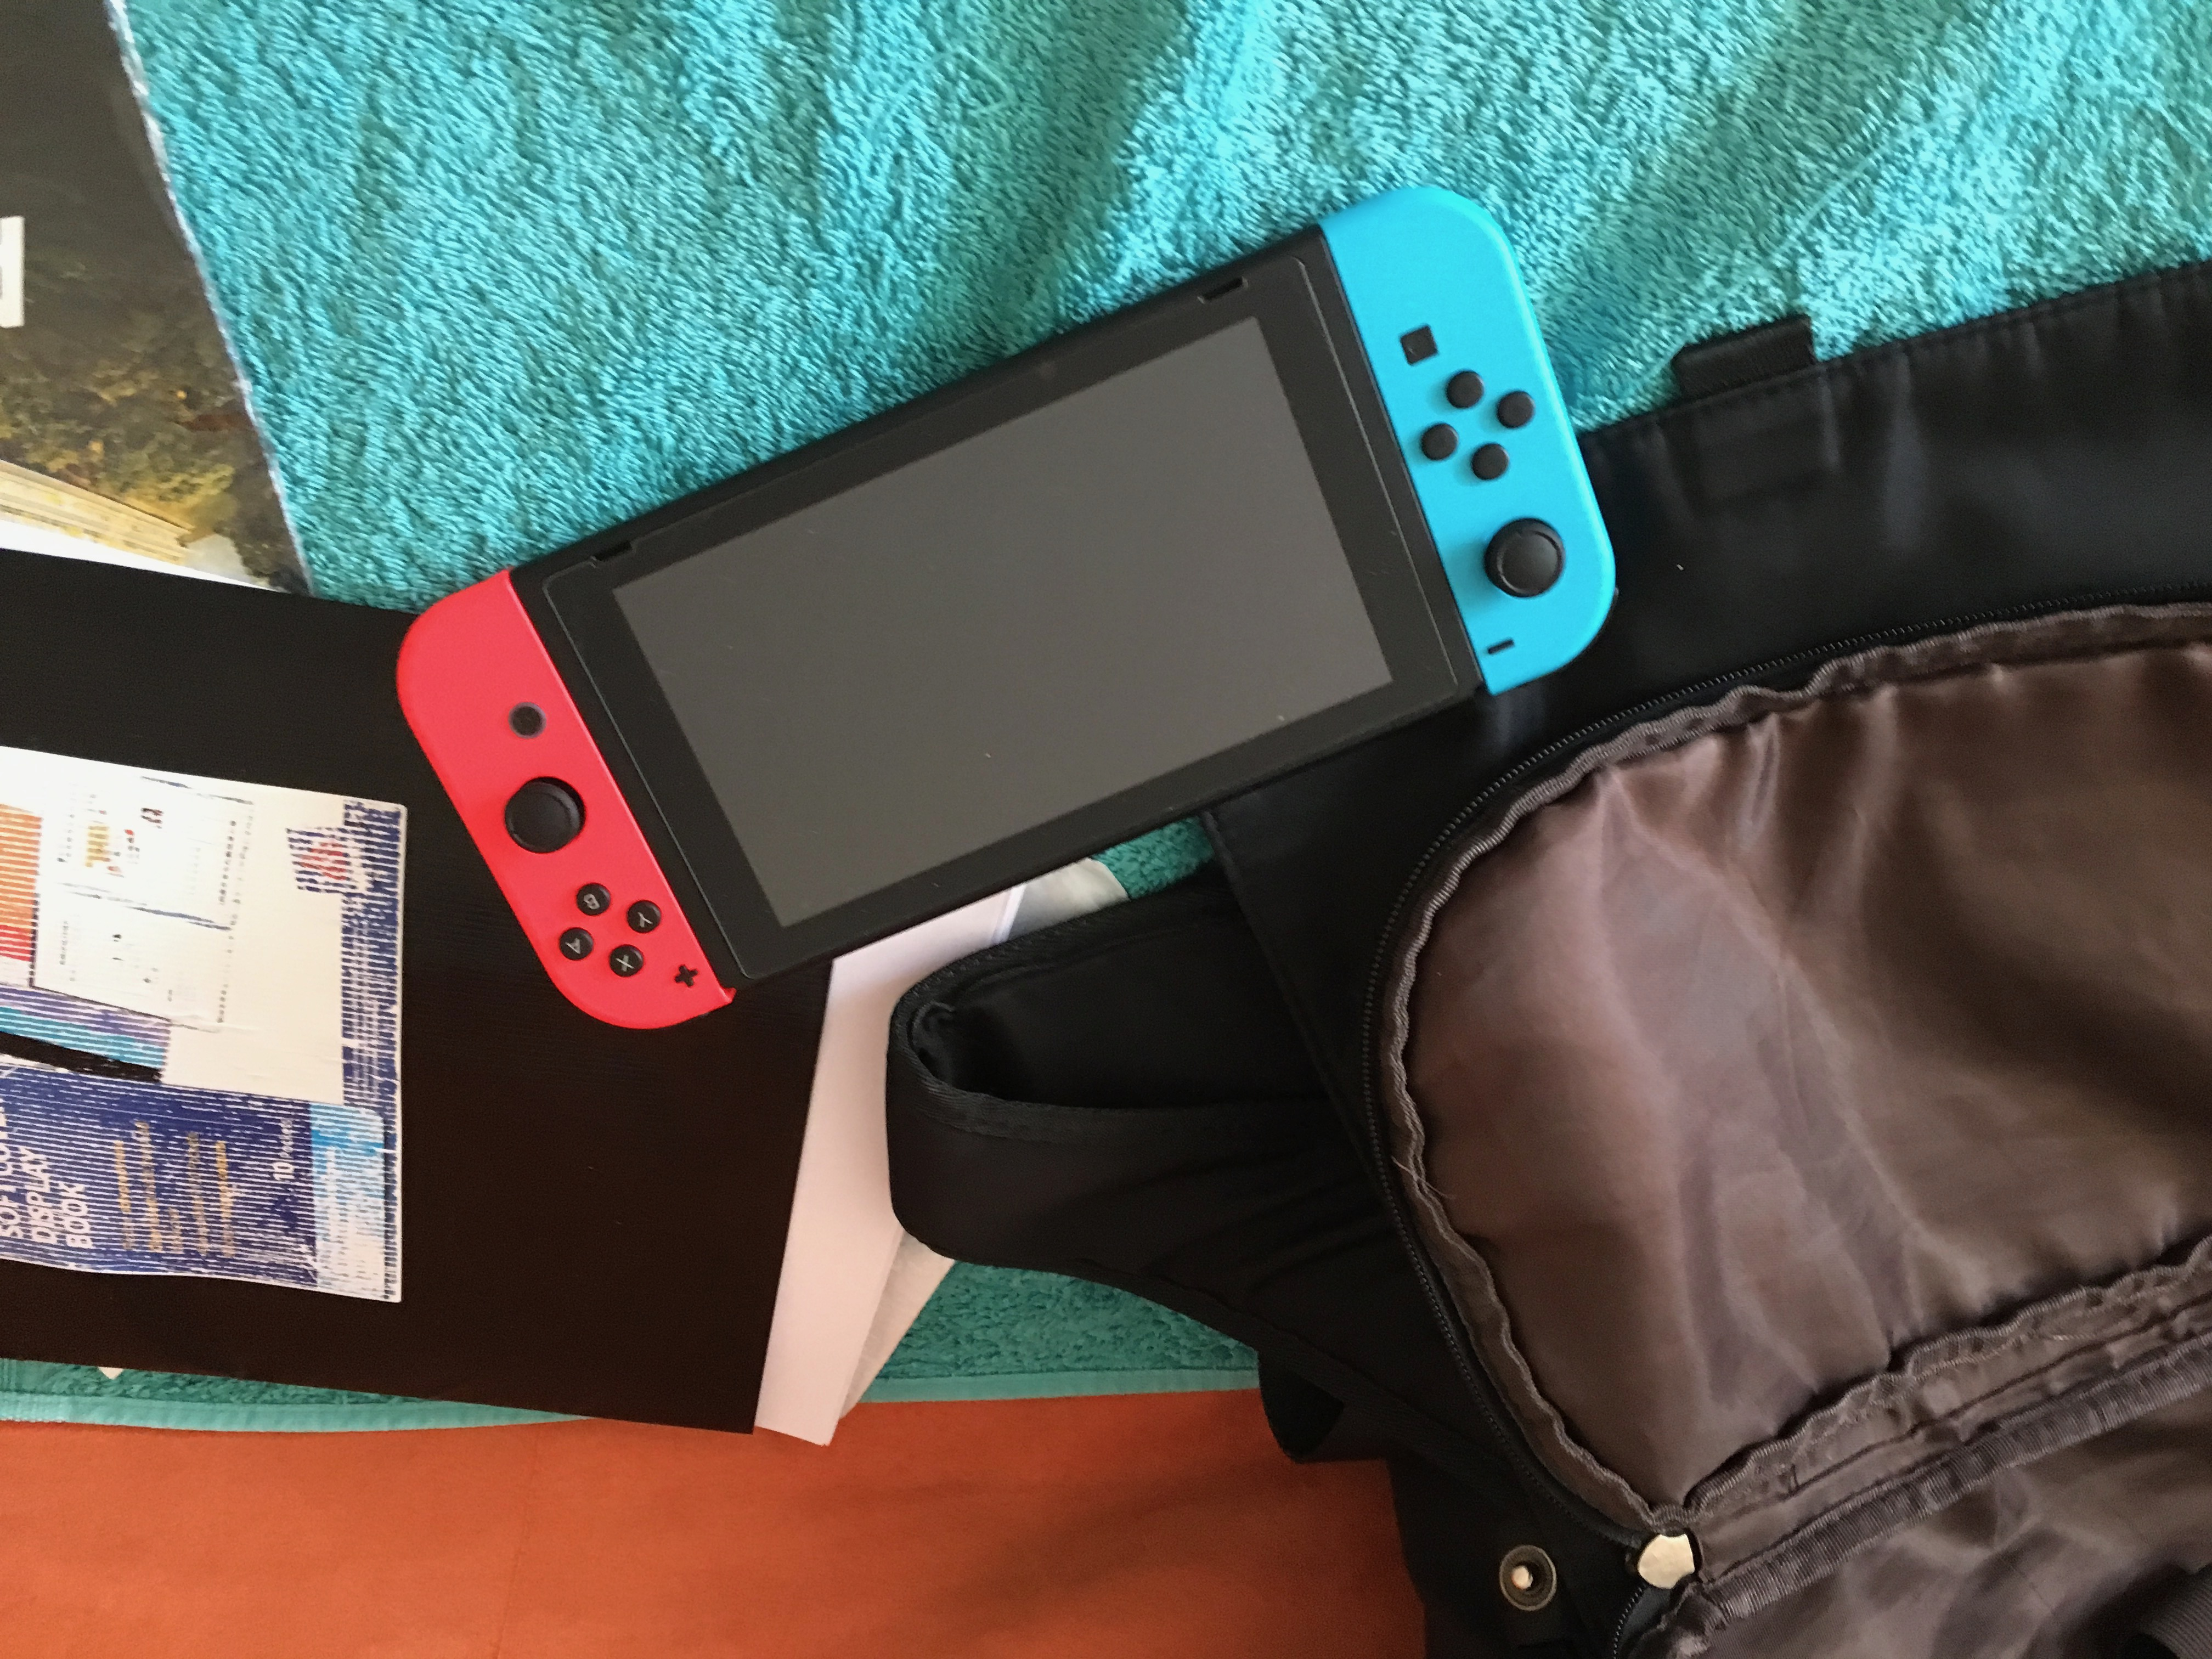NintendoSwitch: (376, 179, 1646, 1046)
